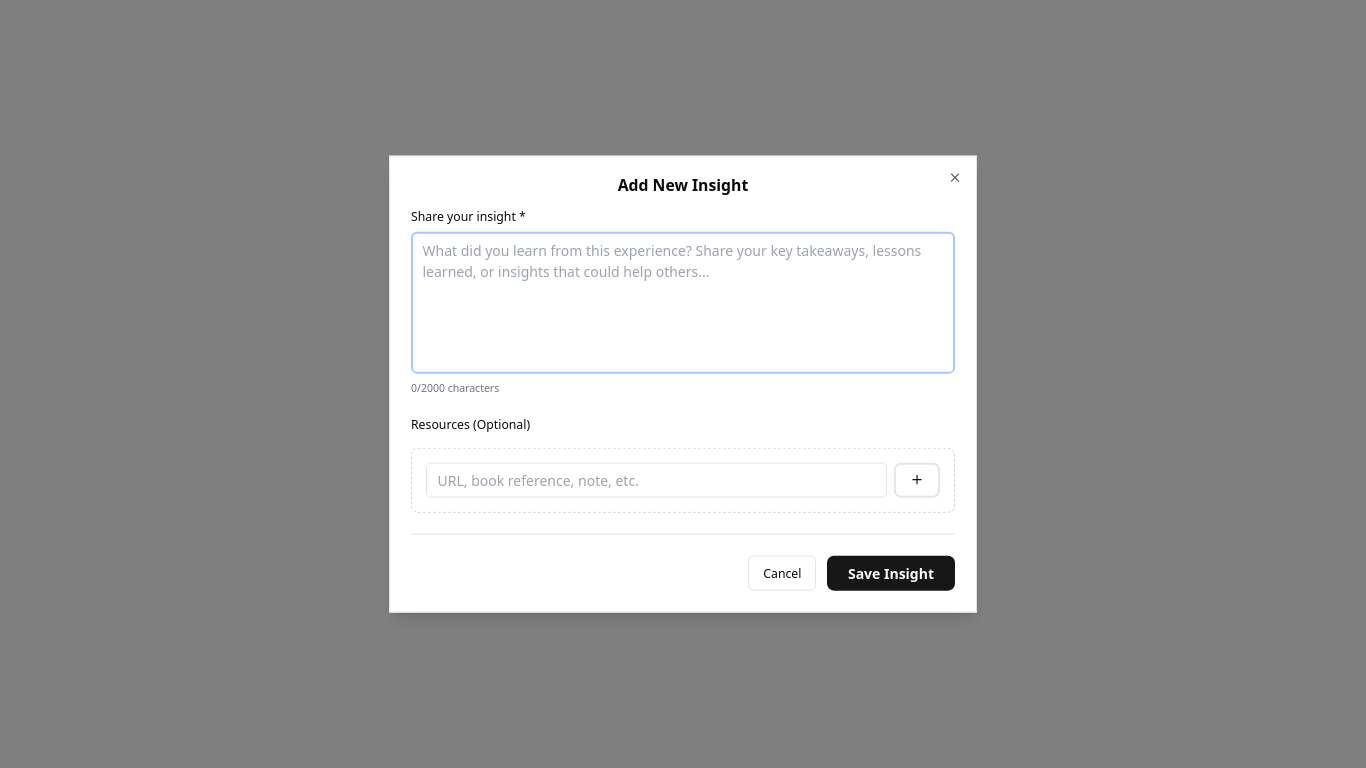
Test: InsightForm › Create Mode › should update character count as user types
Type "Test insight" into the text box labelled "Share your insight *".
click(683, 303); type("Test insight")  # box 411,232 -> 955,374
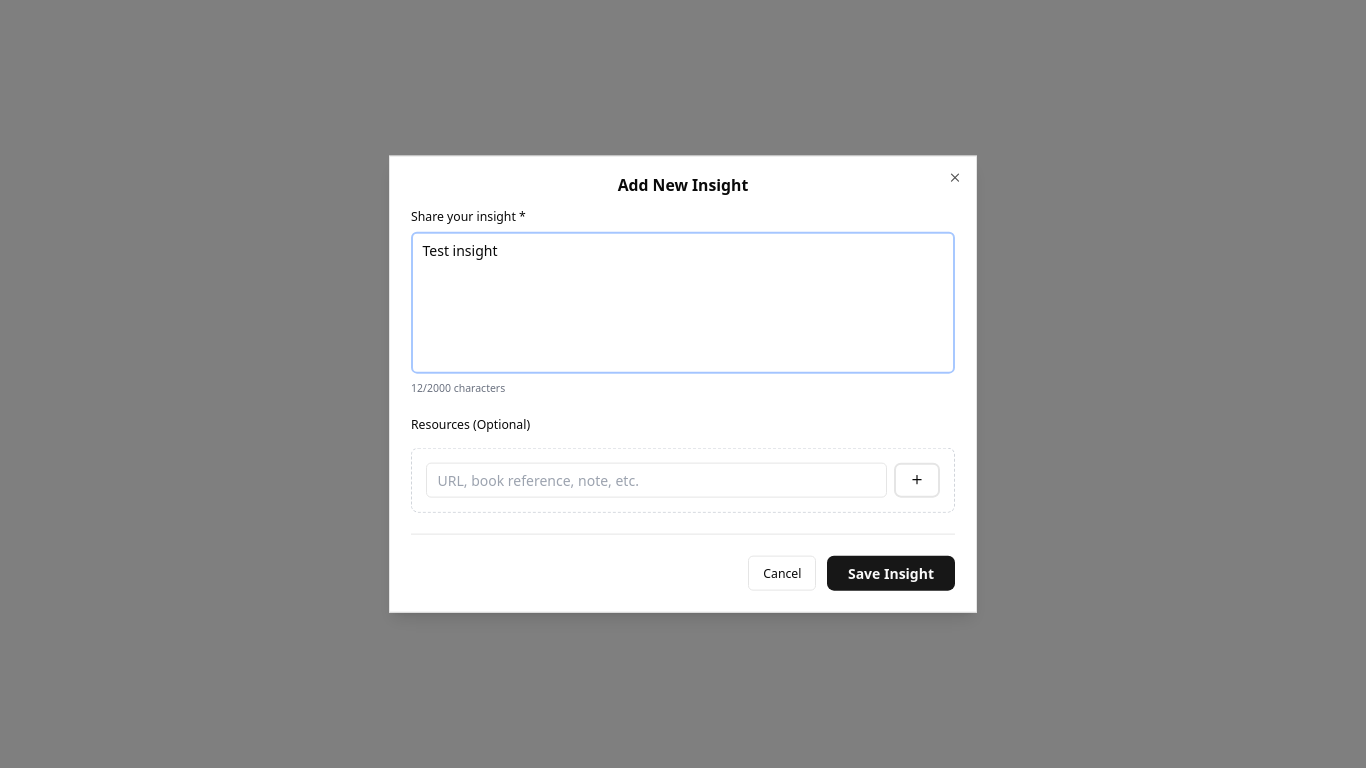
Check: the text "12/2000 characters" is shown, box 411,381 -> 505,395
